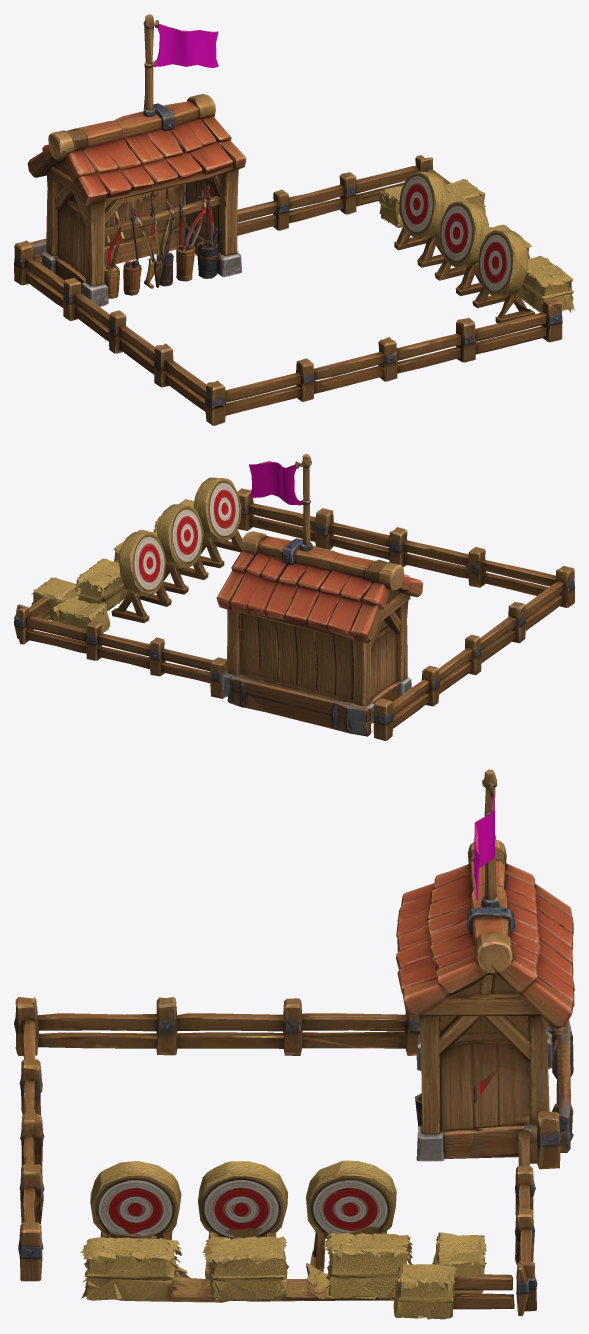
The model's file is archery.glb.
3 renders of one model, top to bottom at view 1: azimuth 30°, elevation 25°; view 2: azimuth 150°, elevation 25°; view 3: azimuth 270°, elevation 25°, orthographic. The views are drawn at different scales.
Parts seen in each view (by area): view 1: Mesh_0; view 2: Mesh_0; view 3: Mesh_0.
Boxes of the visible parts, x1,y1,x2,y2 form: Mesh_0: [14, 14, 574, 425]; Mesh_0: [14, 454, 574, 740]; Mesh_0: [14, 769, 574, 1319].
Size of the model in its own units: 1.9 by 1.12 by 1.62.
1 material, 1 textured.
